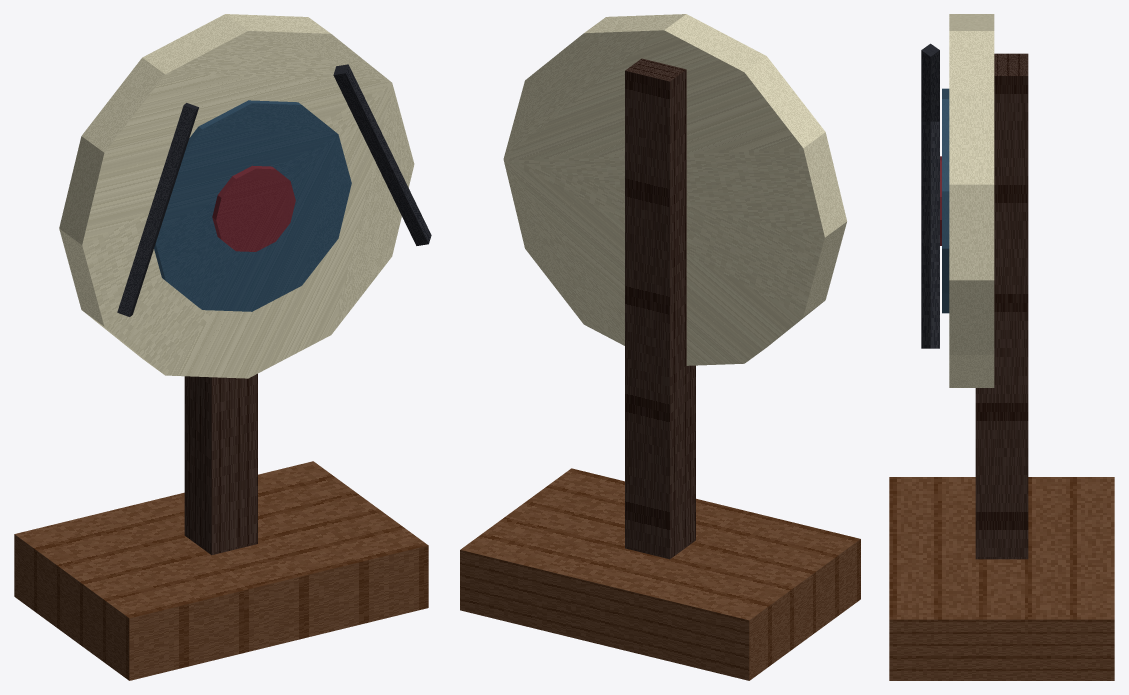
Rendered from training_target_damaged.glb.
3 renders of one model, left to right at view 1: azimuth 30°, elevation 25°; view 2: azimuth 150°, elevation 25°; view 3: azimuth 270°, elevation 25°, orthographic. The views are drawn at different scales.
Visible parts, largest first — view 1: target, base, ring, post, crack (×2), bullseye; view 2: target, base, post; view 3: base, post, target, crack (×2), ring.
Part boxes in pixels (<box>): target: <box>59,14,414,378</box>; base: <box>14,461,428,680</box>; ring: <box>154,100,351,311</box>; post: <box>184,373,257,555</box>; crack (×2): <box>117,64,431,316</box>; bullseye: <box>212,165,295,251</box>; target: <box>503,14,846,365</box>; base: <box>460,468,860,680</box>; post: <box>625,58,695,559</box>; base: <box>889,477,1114,680</box>; post: <box>975,53,1028,559</box>; target: <box>949,14,994,387</box>; crack (×2): <box>921,43,939,348</box>; ring: <box>942,88,949,313</box>.
Bounding box in the file's own units: 1.02 × 1.7 × 0.6.
1 material, 1 textured.
